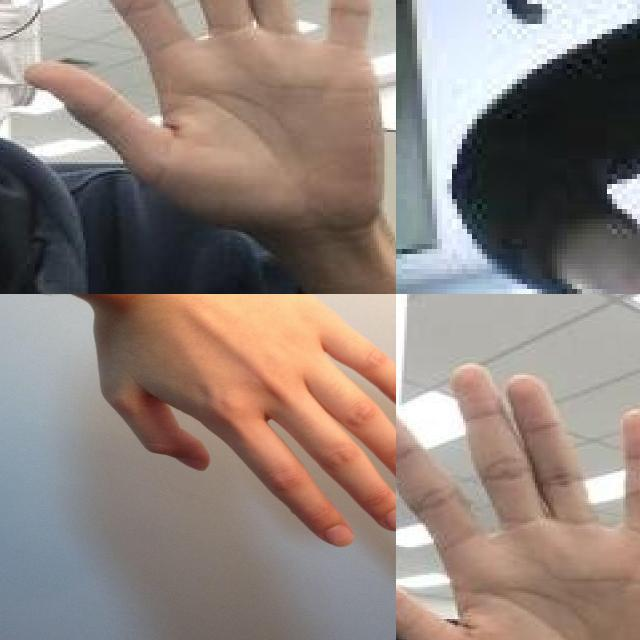no-gloves: (24, 0, 387, 236), (87, 294, 396, 547), (396, 359, 640, 640)
